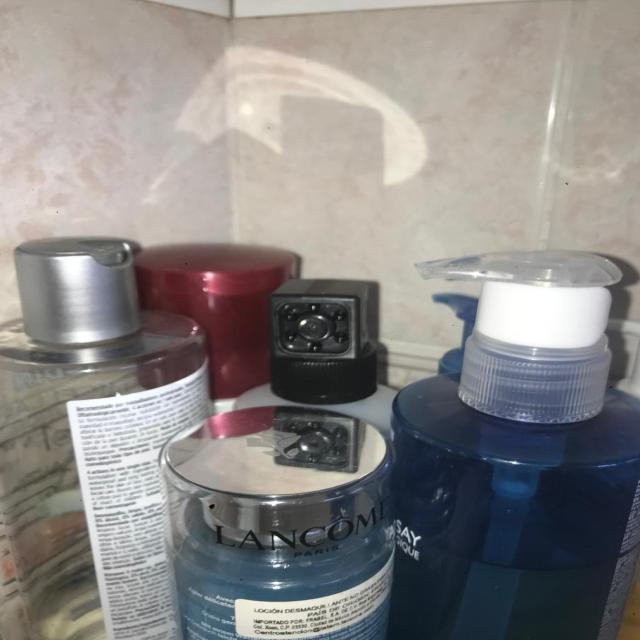hidden camera: (295, 317, 330, 342)
